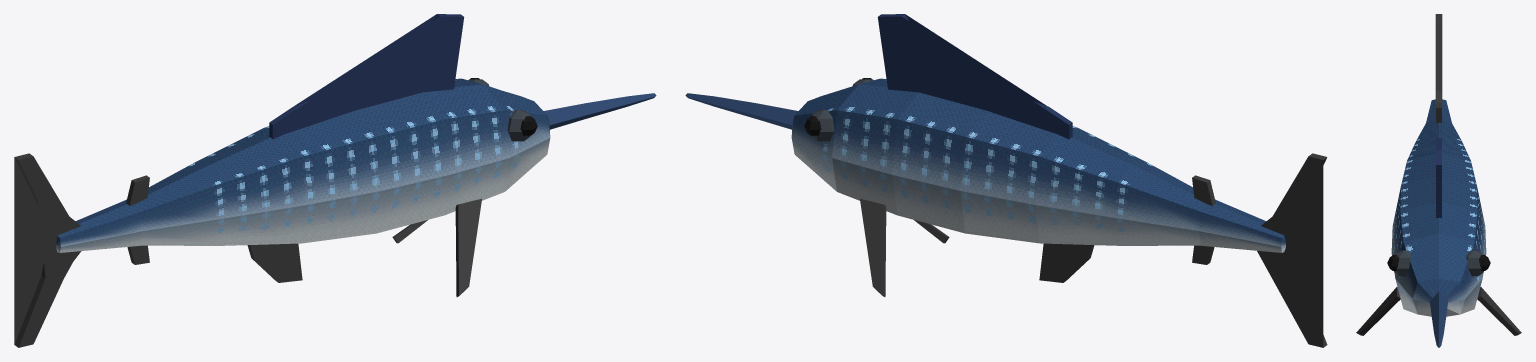
Rendered from blue_marlin.glb.
The picture shows the model from 3 angles, left to right: view 1: azimuth 30°, elevation 25°; view 2: azimuth 150°, elevation 25°; view 3: azimuth 270°, elevation 25°; orthographic projection. The views are drawn at different scales.
Visible parts, largest first — view 1: Fish_blue_marlin; view 2: Fish_blue_marlin; view 3: Fish_blue_marlin.
Part boxes in pixels (x1,y1,x2,y2): Fish_blue_marlin: (14, 14, 656, 347); Fish_blue_marlin: (685, 14, 1327, 347); Fish_blue_marlin: (1356, 14, 1521, 347).
Bounding box in the file's own units: 1.07 × 0.3831 × 0.2918.
5 materials, 1 textured.
